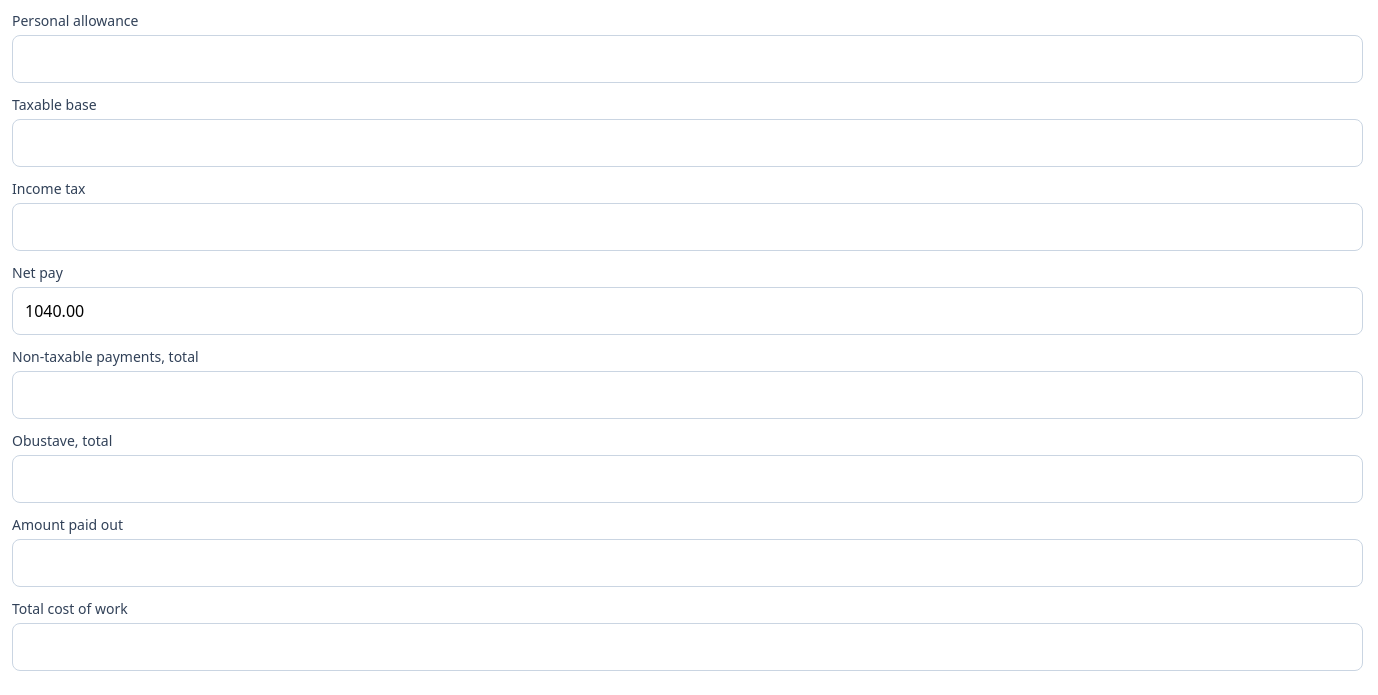
PayslipForm › saves only the edited scalar, parsed, and reports the save
(page scrolled)
Replace the text in the field labelled "Net pay" with "1.041,00" at (688, 311), box x1=12 y1=287 x2=1363 y2=335
(page scrolled)
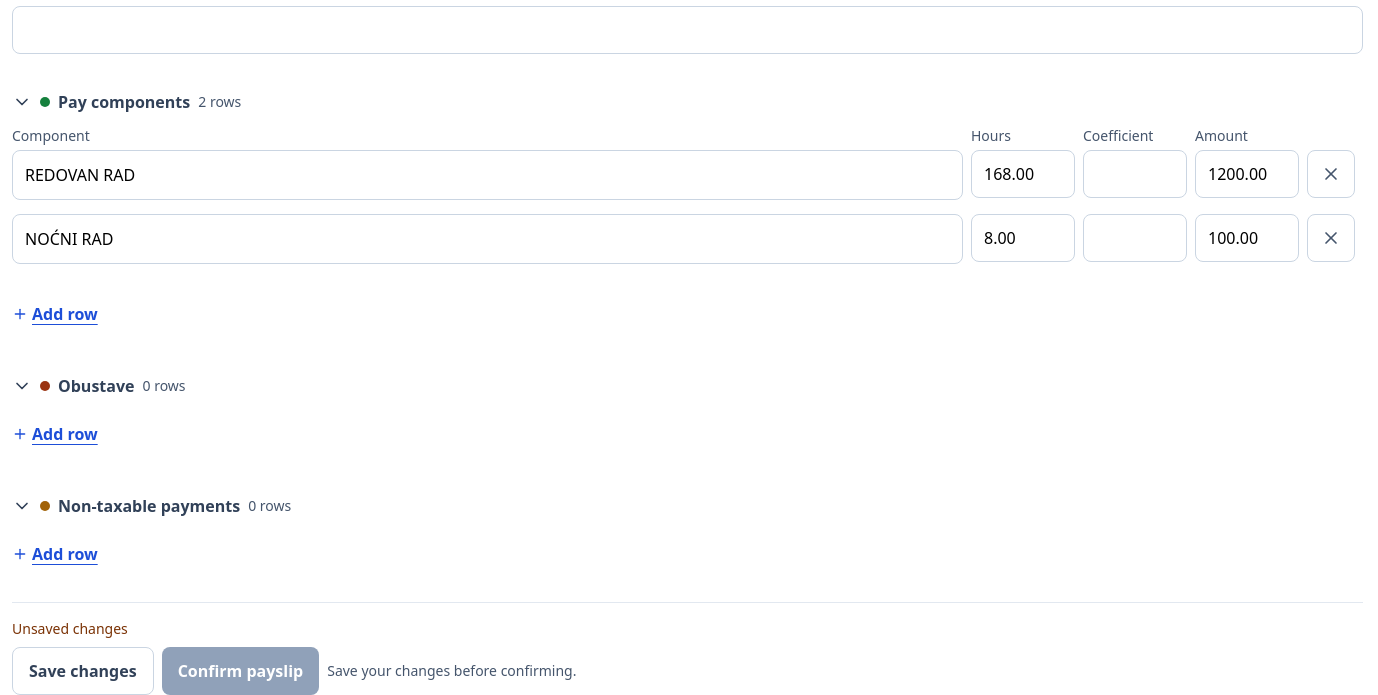
Click the button "Save changes".
click(83, 671)  # box x1=12 y1=647 x2=154 y2=694
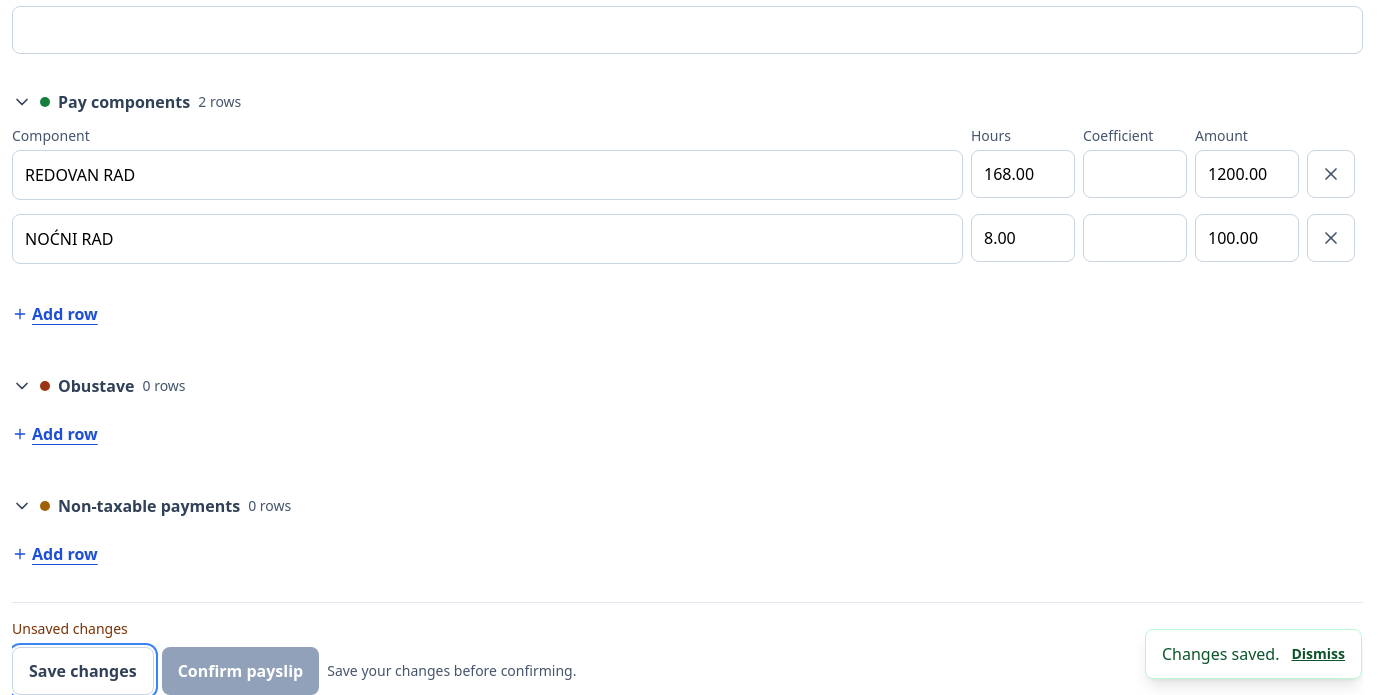
Result: the text "Changes saved." is shown at x1=1162 y1=642 x2=1280 y2=666
